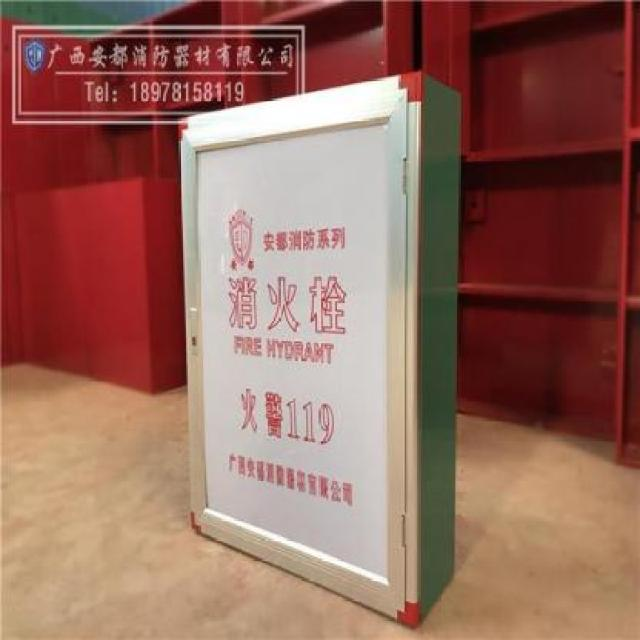firehydrant: (175, 64, 466, 634)
